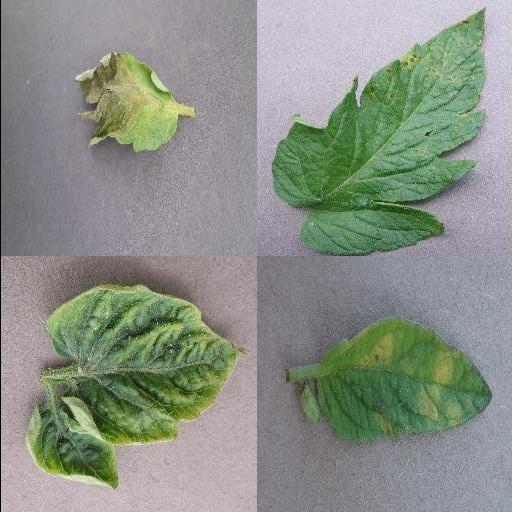Late Blight: (73, 53, 179, 153)
Leaf Mold: (313, 317, 493, 446)
Septoria: (273, 8, 487, 256)
Yellow Leaf Curl Virus: (49, 283, 245, 447), (21, 399, 117, 489)
